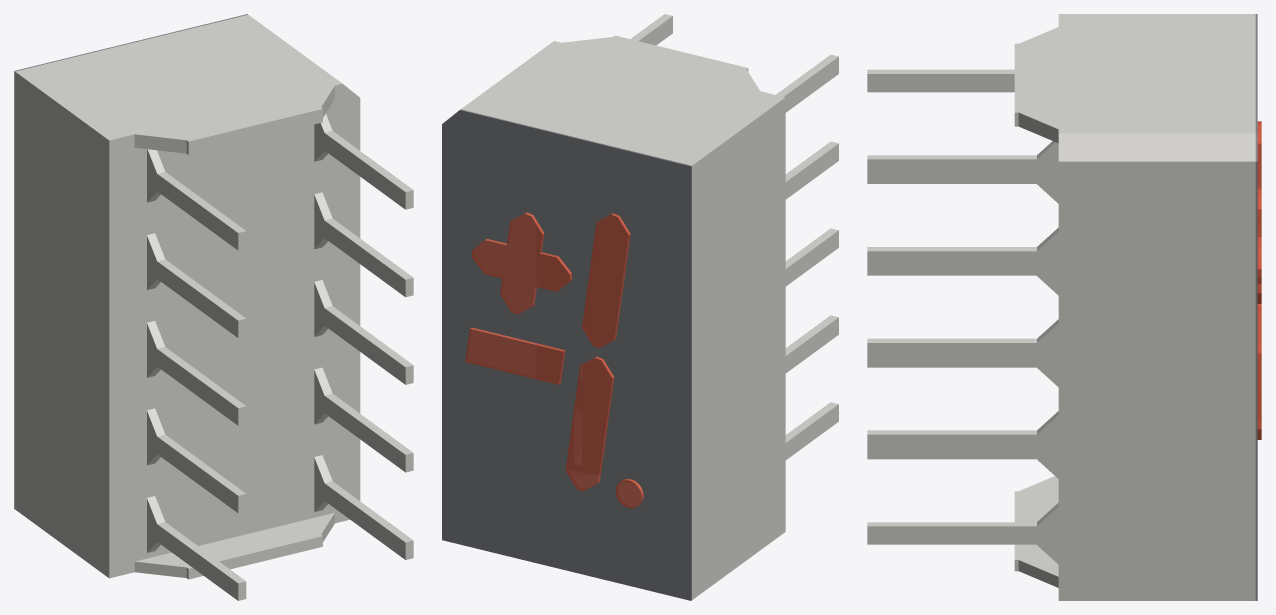
Rendered from HDSP-7507.glb.
3 renders of one model, left to right at view 1: azimuth 30°, elevation 25°; view 2: azimuth 150°, elevation 25°; view 3: azimuth 270°, elevation 25°, orthographic. The views are drawn at different scales.
Visible parts, largest first — view 1: Shape_IndexedFaceSet.010, Shape_IndexedFaceSet.100, Shape_IndexedFaceSet.143, Shape_IndexedFaceSet.016, Shape_IndexedFaceSet.015, Shape_IndexedFaceSet.017, Shape_IndexedFaceSet.090, Shape_IndexedFaceSet.116, Shape_IndexedFaceSet.121, Shape_IndexedFaceSet.109, Shape_IndexedFaceSet.113, Shape_IndexedFaceSet.125 (+18 smaller); view 2: Shape_IndexedFaceSet.164, Shape_IndexedFaceSet.100, Shape_IndexedFaceSet.143, Shape_IndexedFaceSet.207, Shape_IndexedFaceSet.210, Shape_IndexedFaceSet.208, Shape_IndexedFaceSet.215, Shape_IndexedFaceSet.213, Shape_IndexedFaceSet.109, Shape_IndexedFaceSet.113, Shape_IndexedFaceSet.116, Shape_IndexedFaceSet.125 (+5 smaller); view 3: Shape_IndexedFaceSet.097, Shape_IndexedFaceSet.143, Shape_IndexedFaceSet.098, Shape_IndexedFaceSet.135, Shape_IndexedFaceSet.001, Shape_IndexedFaceSet.127, Shape_IndexedFaceSet.131, Shape_IndexedFaceSet.139, Shape_IndexedFaceSet.107, Shape_IndexedFaceSet.017, Shape_IndexedFaceSet.145, Shape_IndexedFaceSet.119 (+15 smaller).
Boxes of the visible parts, x1,y1,x2,y2 form: Shape_IndexedFaceSet.010: [134, 99, 334, 561]; Shape_IndexedFaceSet.100: [15, 72, 109, 577]; Shape_IndexedFaceSet.143: [15, 14, 341, 141]; Shape_IndexedFaceSet.016: [109, 148, 134, 567]; Shape_IndexedFaceSet.015: [335, 94, 360, 512]; Shape_IndexedFaceSet.017: [135, 513, 334, 568]; Shape_IndexedFaceSet.090: [188, 109, 322, 154]; Shape_IndexedFaceSet.116: [157, 349, 238, 425]; Shape_IndexedFaceSet.121: [157, 524, 238, 600]; Shape_IndexedFaceSet.109: [157, 174, 238, 250]; Shape_IndexedFaceSet.113: [157, 262, 238, 337]; Shape_IndexedFaceSet.125: [157, 437, 238, 512]; Shape_IndexedFaceSet.164: [442, 110, 691, 600]; Shape_IndexedFaceSet.100: [692, 97, 785, 599]; Shape_IndexedFaceSet.143: [461, 35, 784, 165]; Shape_IndexedFaceSet.207: [565, 358, 612, 491]; Shape_IndexedFaceSet.210: [582, 214, 628, 347]; Shape_IndexedFaceSet.208: [465, 329, 563, 384]; Shape_IndexedFaceSet.215: [502, 245, 539, 286]; Shape_IndexedFaceSet.213: [507, 214, 542, 253]; Shape_IndexedFaceSet.109: [784, 57, 838, 112]; Shape_IndexedFaceSet.113: [785, 143, 838, 199]; Shape_IndexedFaceSet.116: [785, 230, 838, 286]; Shape_IndexedFaceSet.125: [785, 317, 838, 373]; Shape_IndexedFaceSet.097: [1058, 161, 1255, 600]; Shape_IndexedFaceSet.143: [1014, 14, 1255, 133]; Shape_IndexedFaceSet.098: [1058, 133, 1255, 161]; Shape_IndexedFaceSet.135: [867, 434, 1036, 452]; Shape_IndexedFaceSet.001: [867, 159, 1036, 177]; Shape_IndexedFaceSet.127: [867, 343, 1036, 361]; Shape_IndexedFaceSet.131: [867, 526, 1036, 544]; Shape_IndexedFaceSet.139: [867, 251, 1036, 269]; Shape_IndexedFaceSet.107: [867, 74, 1014, 92]; Shape_IndexedFaceSet.017: [1014, 476, 1058, 576]; Shape_IndexedFaceSet.145: [1255, 161, 1257, 600]; Shape_IndexedFaceSet.119: [867, 453, 1036, 459].
Bounding box in the file's own units: 3 × 5 × 3.9.
